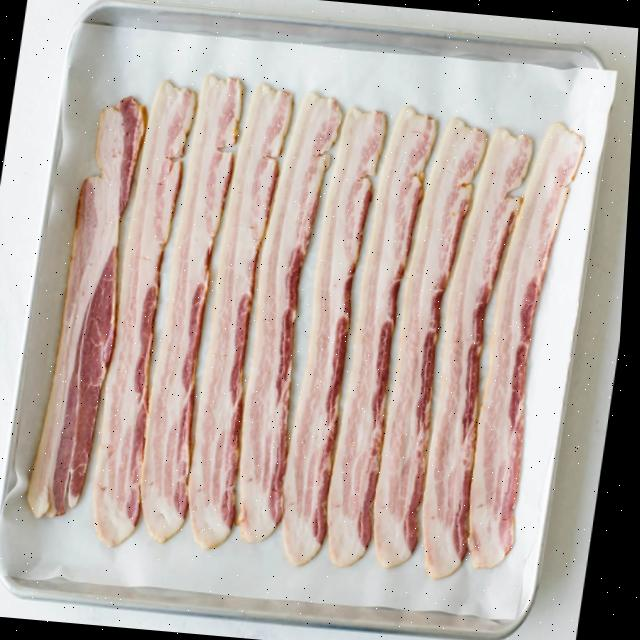Bacon: (474, 120, 585, 568), (379, 117, 488, 567), (333, 105, 438, 565), (33, 96, 147, 516), (428, 127, 534, 578), (193, 81, 294, 548), (99, 78, 197, 545), (146, 73, 243, 542), (288, 106, 387, 565), (244, 91, 343, 542)
